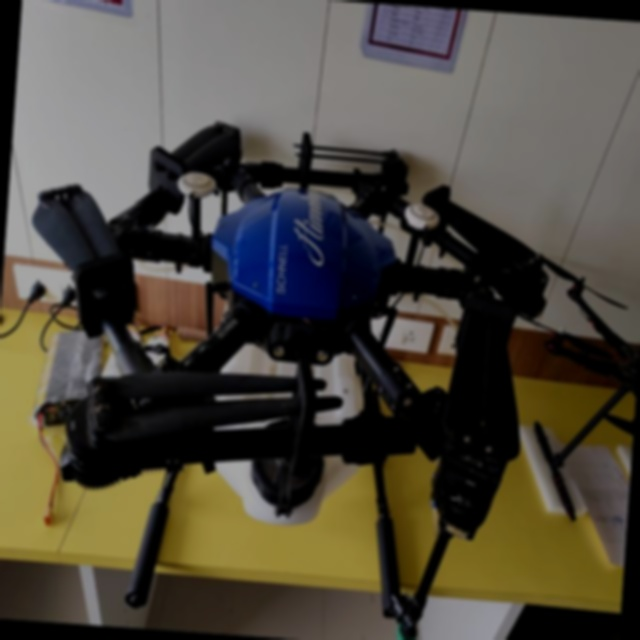agriculturedrone: (0, 97, 603, 640)
